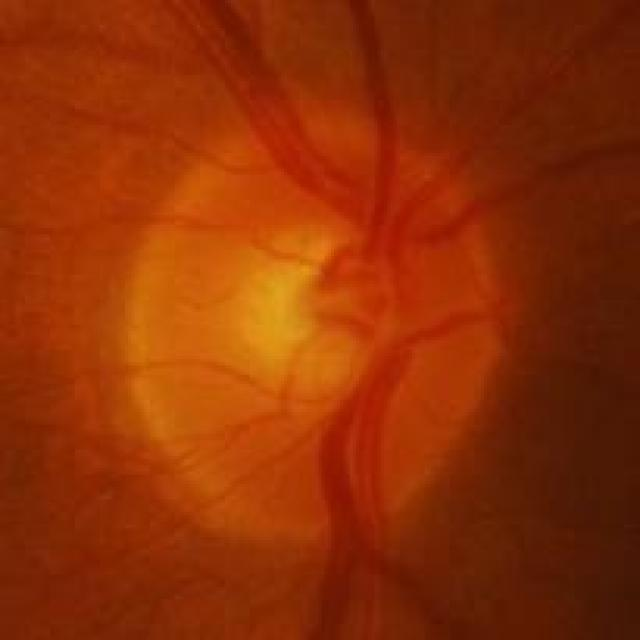OC: (235, 218, 390, 407)
OD: (128, 119, 507, 546)
